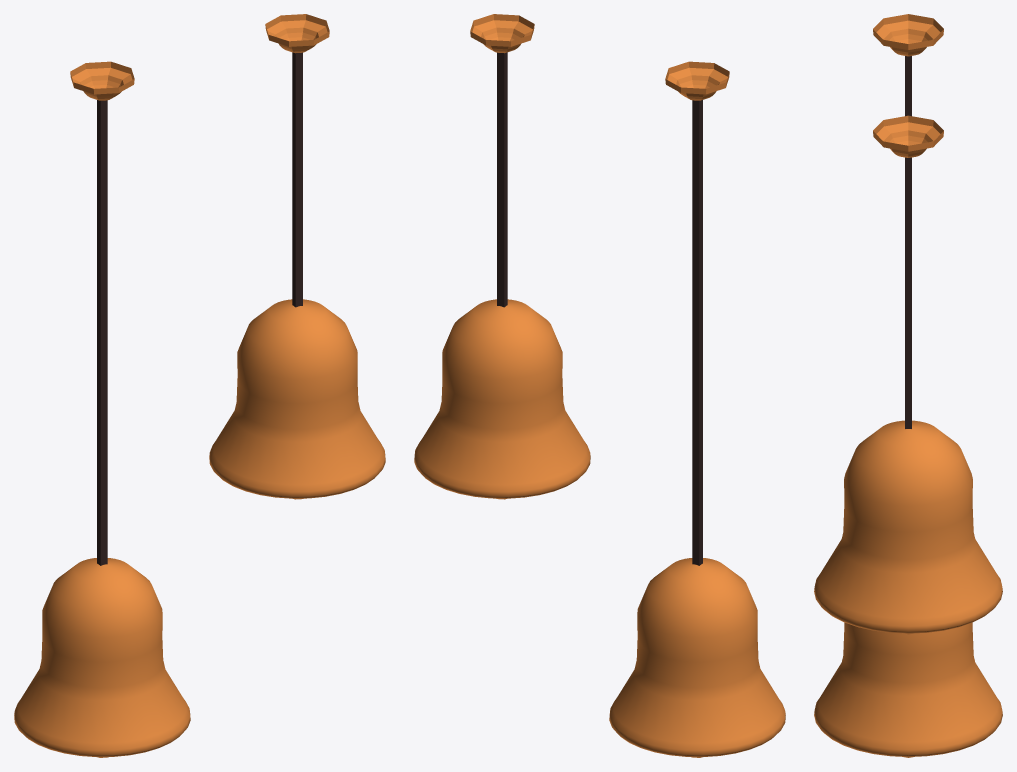
File: fbx_Bells_01.fbx
The picture shows the model from 3 angles, left to right: view 1: azimuth 30°, elevation 25°; view 2: azimuth 150°, elevation 25°; view 3: azimuth 270°, elevation 25°; orthographic projection. The views are drawn at different scales.
Parts seen in each view (by area): view 1: Cylinder.020; view 2: Cylinder.020; view 3: Cylinder.020.
Boxes of the visible parts, left/top/right/bottom form: Cylinder.020: left=14, top=14, right=385, bottom=757; Cylinder.020: left=414, top=14, right=785, bottom=757; Cylinder.020: left=814, top=14, right=1002, bottom=757.
Size of the model in its own units: 37.65 by 70.29 by 16.56.
